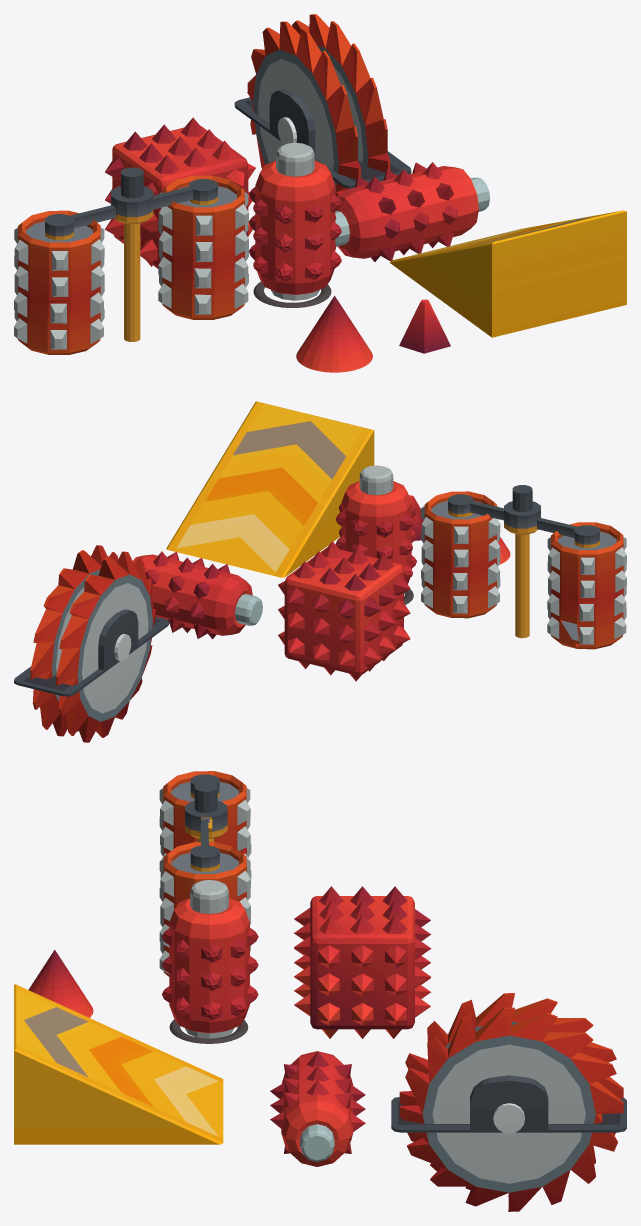
Rendered from Obstacles.fbx.
The picture shows the model from 3 angles, top to bottom: view 1: azimuth 30°, elevation 25°; view 2: azimuth 150°, elevation 25°; view 3: azimuth 270°, elevation 25°; orthographic projection. The views are drawn at different scales.
Parts seen in each view (by area): view 1: Spike Roller Quad, Ramp, Cutter, Spike Roller H, Spike Roller V, Cube Obstacle, NewSpikeL, Cutter Base, ObstacleOne; view 2: Ramp, Spike Roller Quad, Cutter, Cube Obstacle, Spike Roller V, Spike Roller H, Cutter Base; view 3: Cutter, Ramp, Cube Obstacle, Spike Roller H, Spike Roller Quad, Spike Roller V, Cutter Base, NewSpikeL, Cutter Support.
Part boxes in pixels (x1,y1,x2,y2): Spike Roller Quad: (14, 167, 248, 354); Ramp: (390, 210, 626, 337); Cutter: (247, 14, 390, 195); Spike Roller H: (249, 142, 341, 307); Spike Roller V: (335, 162, 489, 261); Cube Obstacle: (104, 117, 255, 268); NewSpikeL: (296, 295, 372, 372); Cutter Base: (234, 89, 411, 188); ObstacleOne: (399, 299, 450, 353); Ramp: (166, 401, 374, 577); Spike Roller Quad: (421, 485, 626, 649); Cutter: (30, 545, 155, 742); Cube Obstacle: (278, 541, 410, 681); Spike Roller V: (133, 551, 262, 639); Spike Roller H: (335, 465, 416, 604); Cutter Base: (14, 609, 169, 696); Cutter: (399, 993, 623, 1211); Ramp: (14, 984, 223, 1144); Cube Obstacle: (294, 886, 431, 1038); Spike Roller H: (161, 880, 258, 1043); Spike Roller Quad: (159, 771, 251, 976); Spike Roller V: (270, 1051, 365, 1166); Cutter Base: (391, 1075, 626, 1132); NewSpikeL: (28, 950, 93, 1017); Cutter Support: (493, 1103, 524, 1133).
Bounding box in the file's own units: 581 × 264 × 586.
1 material, 1 textured.
